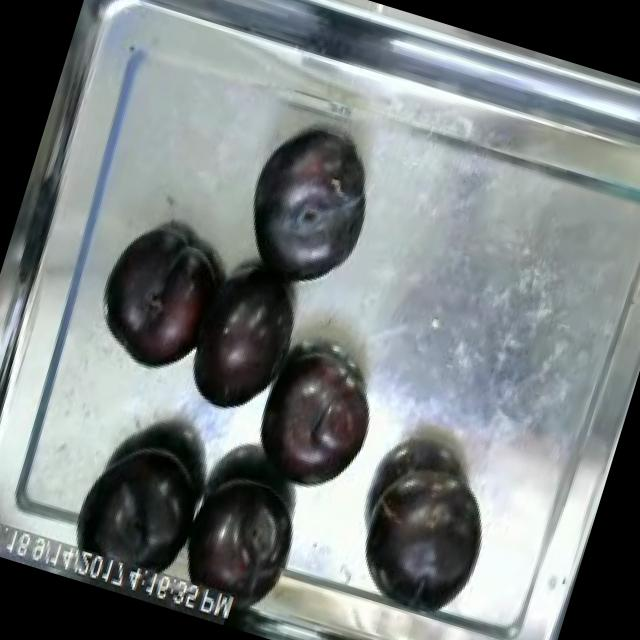Fruit: (227, 109, 390, 298), (338, 443, 503, 627), (55, 418, 218, 602), (238, 332, 400, 517), (170, 248, 314, 436), (78, 215, 233, 387)
